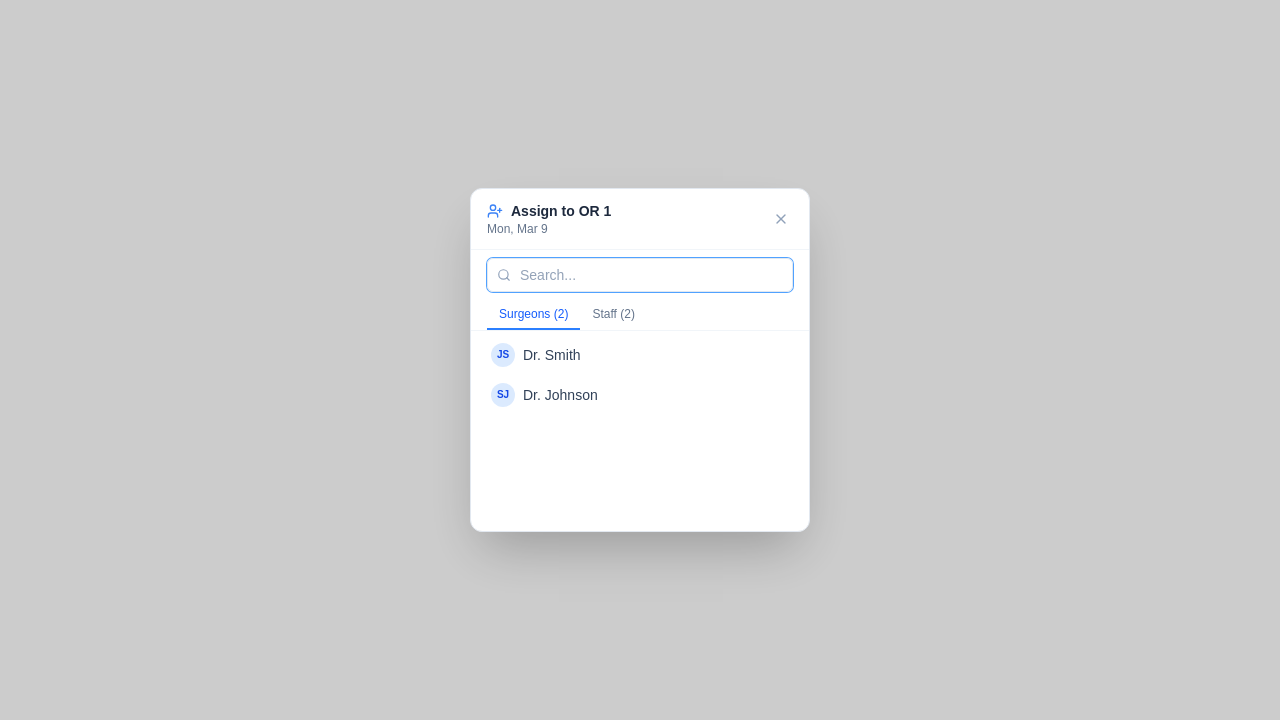
Scenario: AssignPersonDialog › already assigned indicators › disables staff that is already assigned
This screenshot has width=1280, height=720.
Step 1. Click the tab "Staff (2)" → (614, 315), box [580,300,647,330]
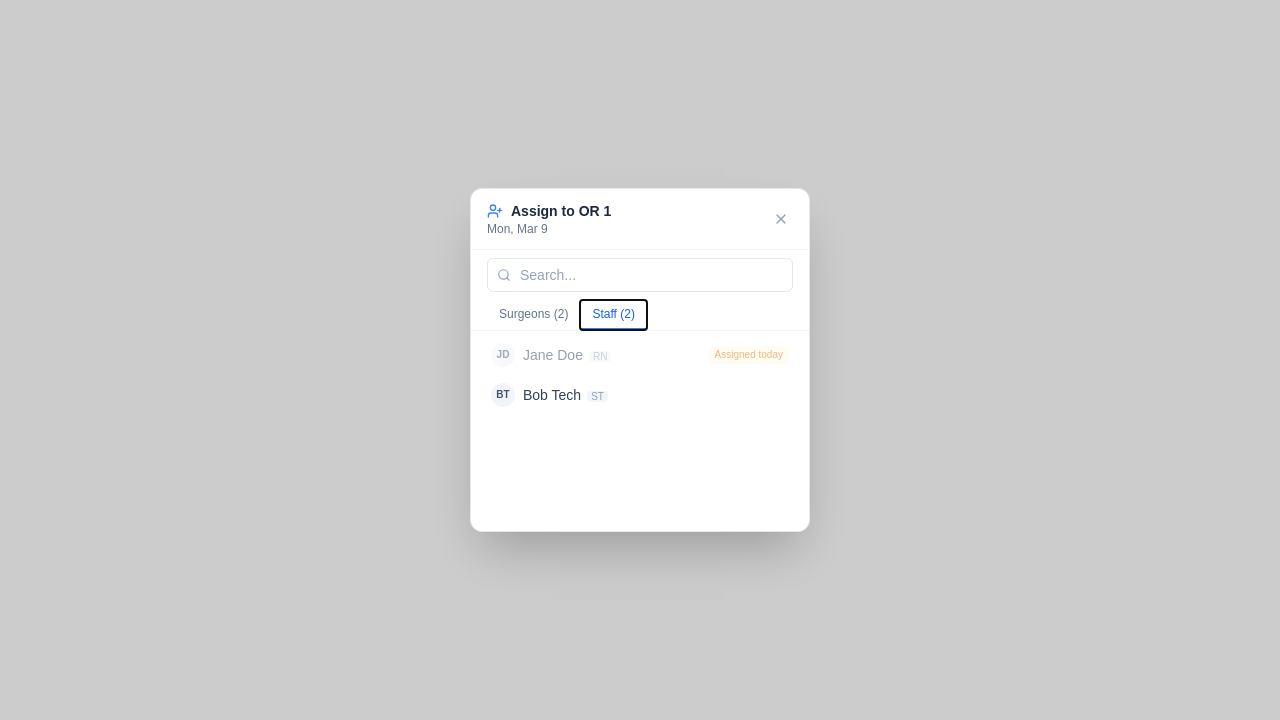
Check: the 2nd button is disabled, box [479,335,801,375]
